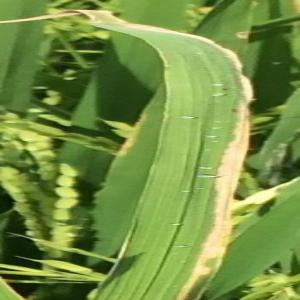Bacterial_Blight: (148, 44, 255, 293)
